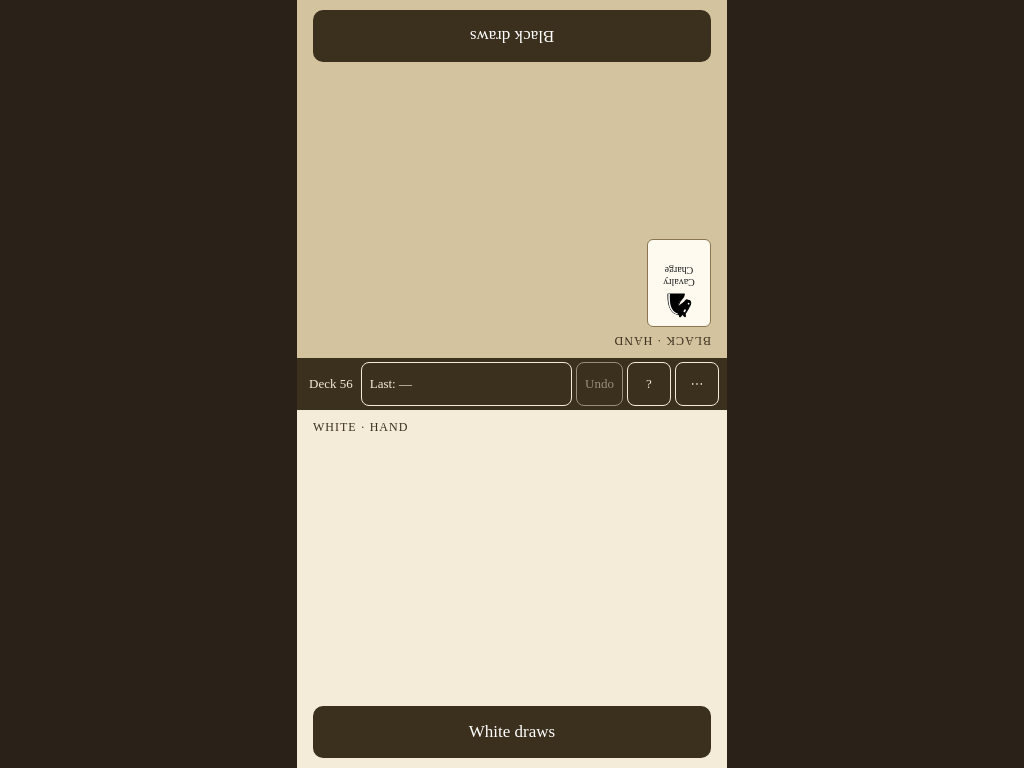
Test: a hand card of the top seat opens an upright form with the card
Click the button "Cavalry Charge" at coordinates (679, 283), box [647,239,711,327]
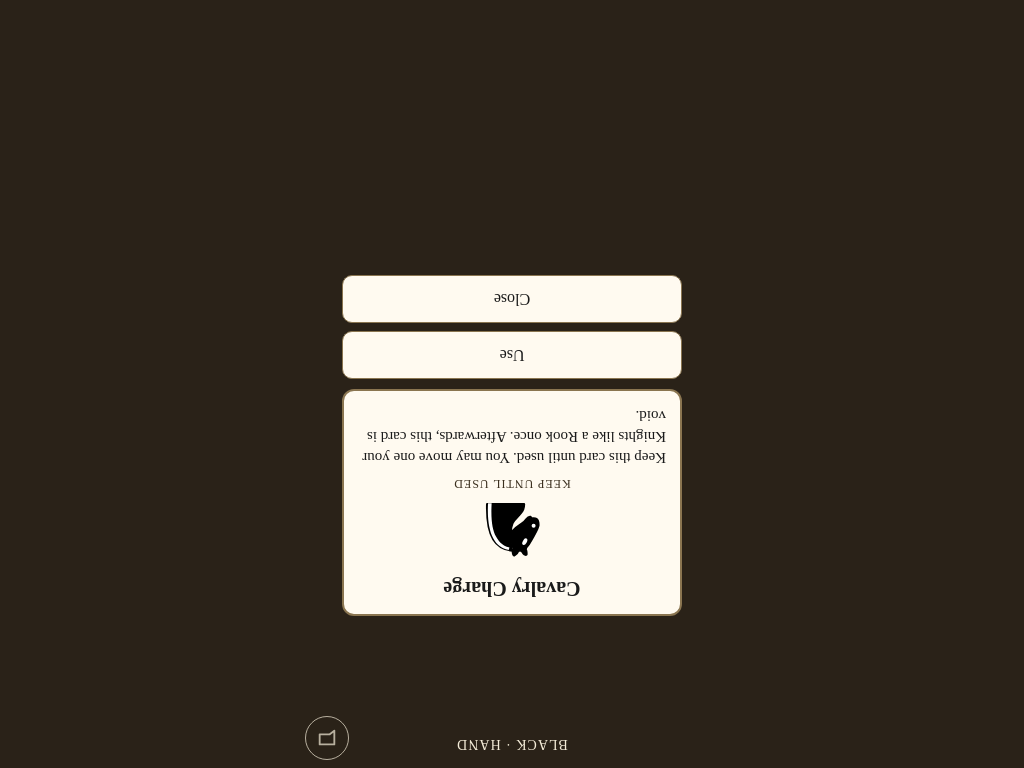
Click the button named "Feedback about this card" at coordinates (327, 738), box [305,716,349,760]
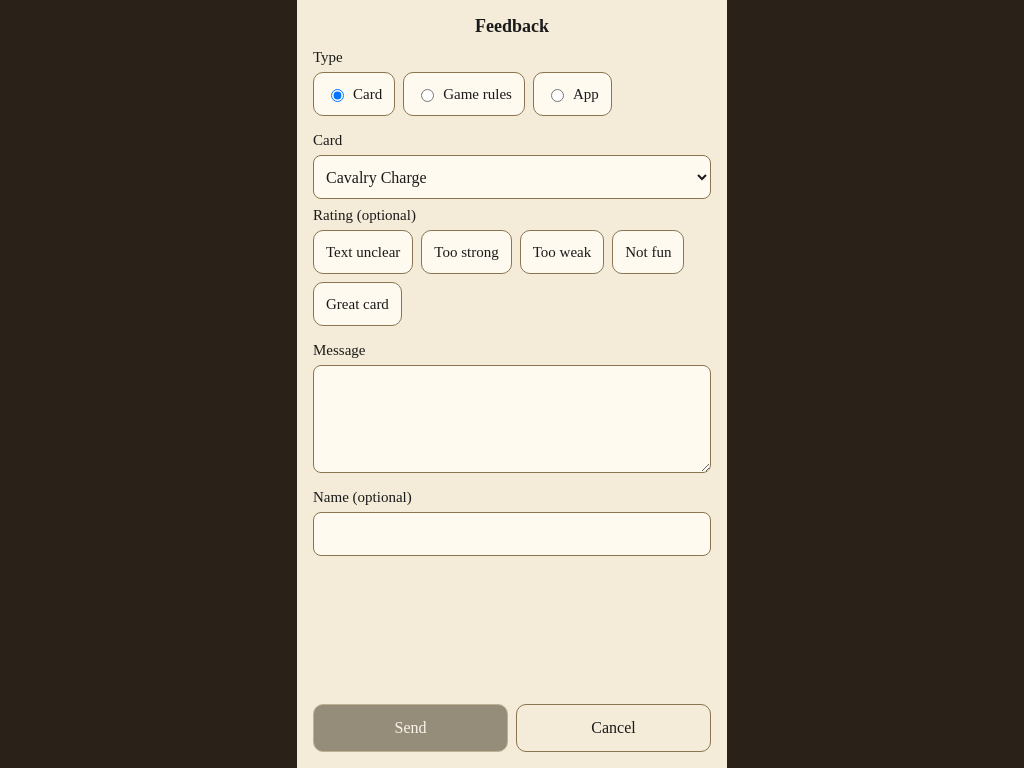
Expected: the radio button labelled "Card" is checked, [331,89,344,102]
Expected: the dropdown labelled "Card" shows "Cavalry Charge", [313,155,711,199]
